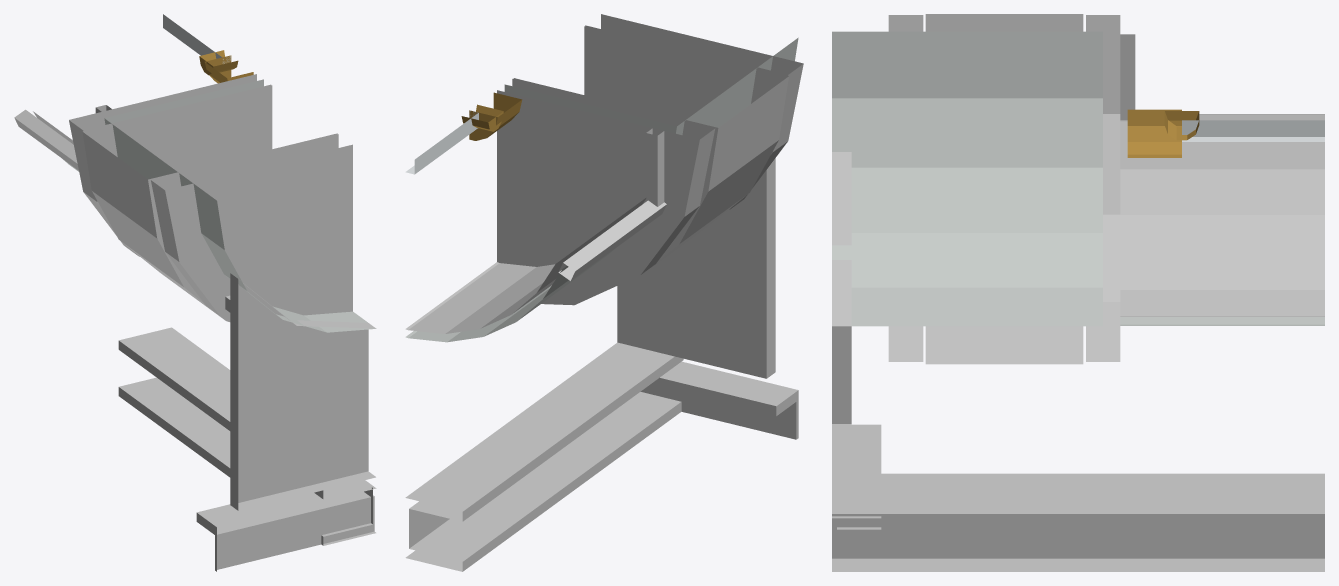
File: cell_55.obj
3 views of the same model, side by side, from view 1: azimuth 30°, elevation 25°; view 2: azimuth 150°, elevation 25°; view 3: azimuth 270°, elevation 25° (orthographic). The views are drawn at different scales.
Size of the model in its own units: 0.535 by 1 by 1.
